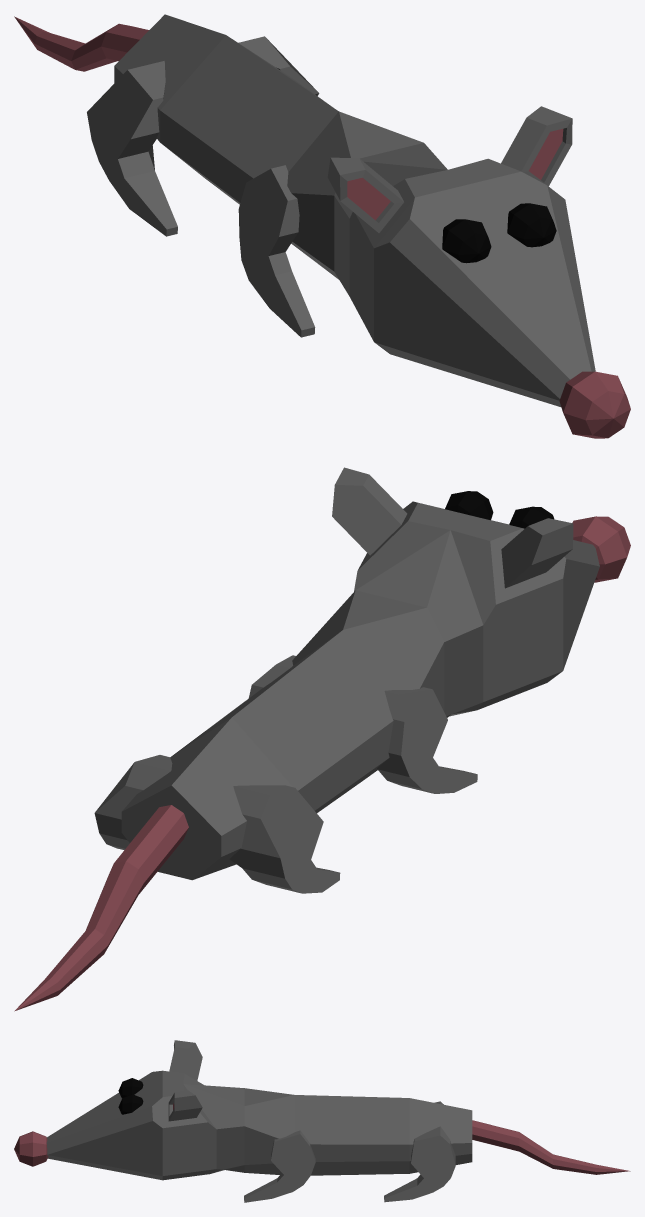
The model's file is rat.glb.
3 views of the same model, one above another, from view 1: azimuth 30°, elevation 25°; view 2: azimuth 150°, elevation 25°; view 3: azimuth 270°, elevation 25° (orthographic). The views are drawn at different scales.
Visible parts, largest first — view 1: rat-body, rat-back-legs, rat-front-legs, rat-nose, rat-eyes, rat-tail, rat-inner-ear; view 2: rat-body, rat-back-legs, rat-tail, rat-front-legs, rat-nose, rat-eyes; view 3: rat-body, rat-back-legs, rat-front-legs, rat-tail, rat-nose, rat-eyes.
Boxes of the visible parts, x1,y1,x2,y2 form: rat-body: [114, 14, 595, 406]; rat-back-legs: [87, 36, 319, 236]; rat-front-legs: [238, 165, 315, 337]; rat-nose: [559, 371, 630, 438]; rat-eyes: [442, 203, 556, 263]; rat-tail: [14, 16, 148, 71]; rat-inner-ear: [347, 129, 563, 220]; rat-body: [121, 467, 599, 880]; rat-back-legs: [94, 755, 340, 893]; rat-tail: [14, 805, 188, 1011]; rat-front-legs: [248, 655, 477, 793]; rat-nose: [572, 516, 630, 582]; rat-eyes: [445, 491, 554, 528]; rat-body: [46, 1040, 472, 1180]; rat-back-legs: [384, 1101, 455, 1202]; rat-front-legs: [244, 1130, 315, 1202]; rat-tail: [472, 1120, 630, 1174]; rat-nose: [14, 1131, 48, 1166]; rat-eyes: [118, 1078, 143, 1114].
Size of the model in its own units: 1.79 by 1.61 by 8.04.
